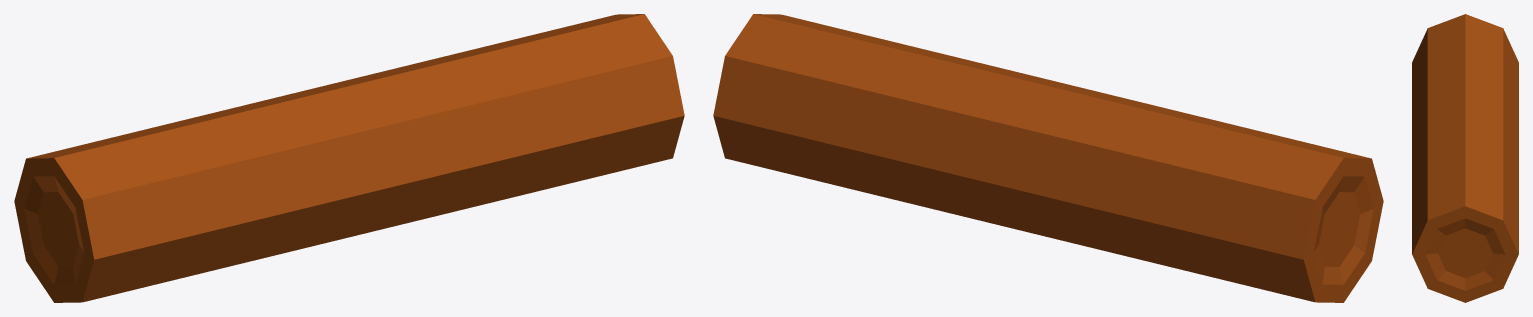
The model's file is WoodLog_02.fbx.
3 views of the same model, side by side, from view 1: azimuth 30°, elevation 25°; view 2: azimuth 150°, elevation 25°; view 3: azimuth 270°, elevation 25° (orthographic). The views are drawn at different scales.
Visible parts, largest first — view 1: WoodLog_02; view 2: WoodLog_02; view 3: WoodLog_02.
Boxes of the visible parts, x1,y1,x2,y2 form: WoodLog_02: (14,14,684,302); WoodLog_02: (713,14,1383,302); WoodLog_02: (1412,14,1518,302).
Size of the model in its own units: 51.14 by 11.99 by 11.99.
